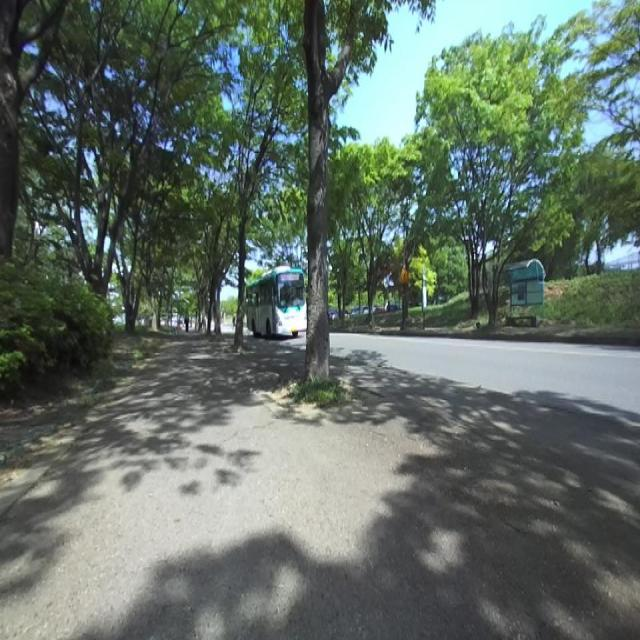sidewalk: (0, 336, 640, 640)
